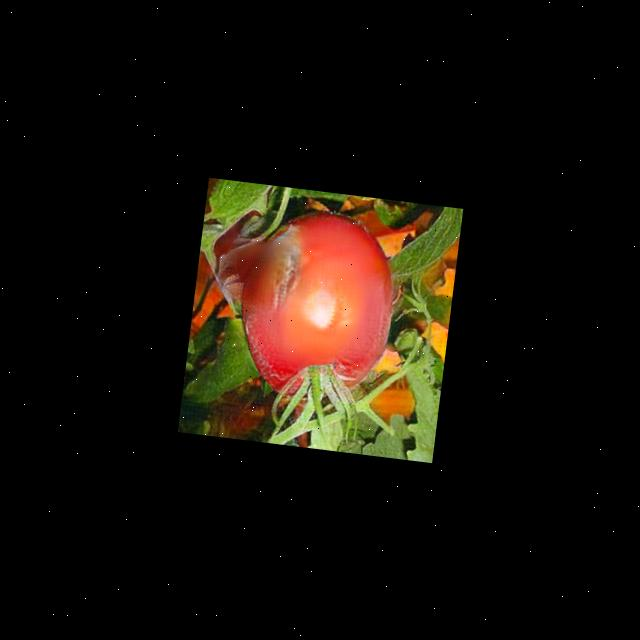tomato: (228, 204, 406, 406)
